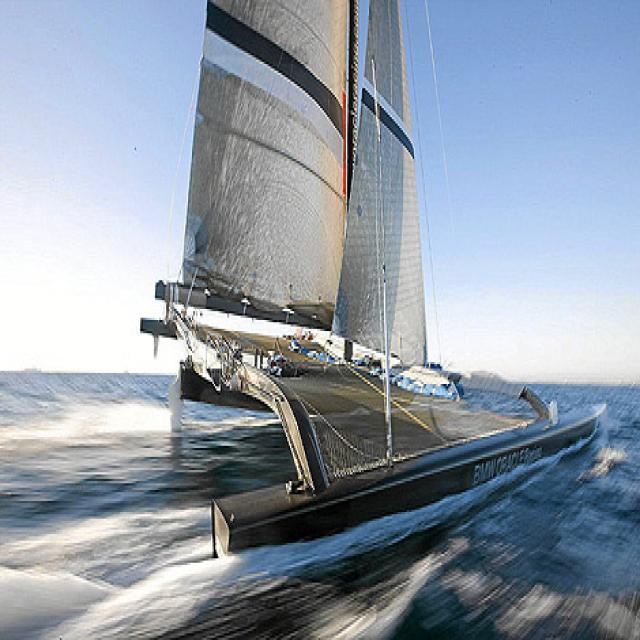Ship: (143, 1, 610, 581)
